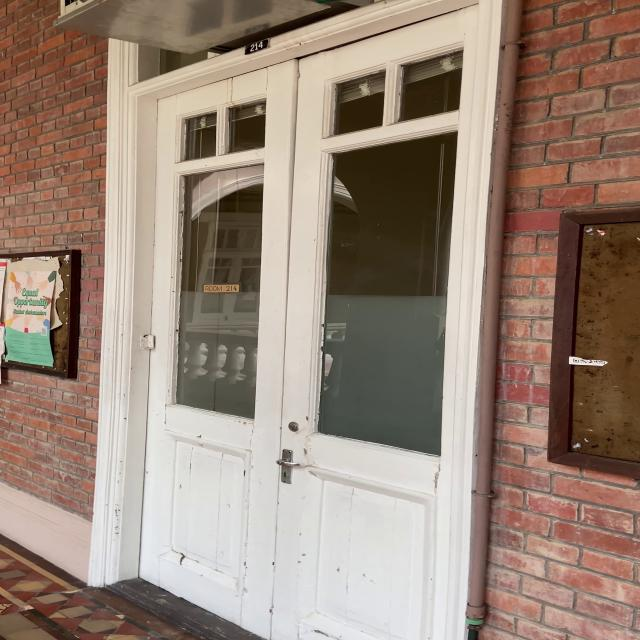room214: (245, 37, 270, 55)
